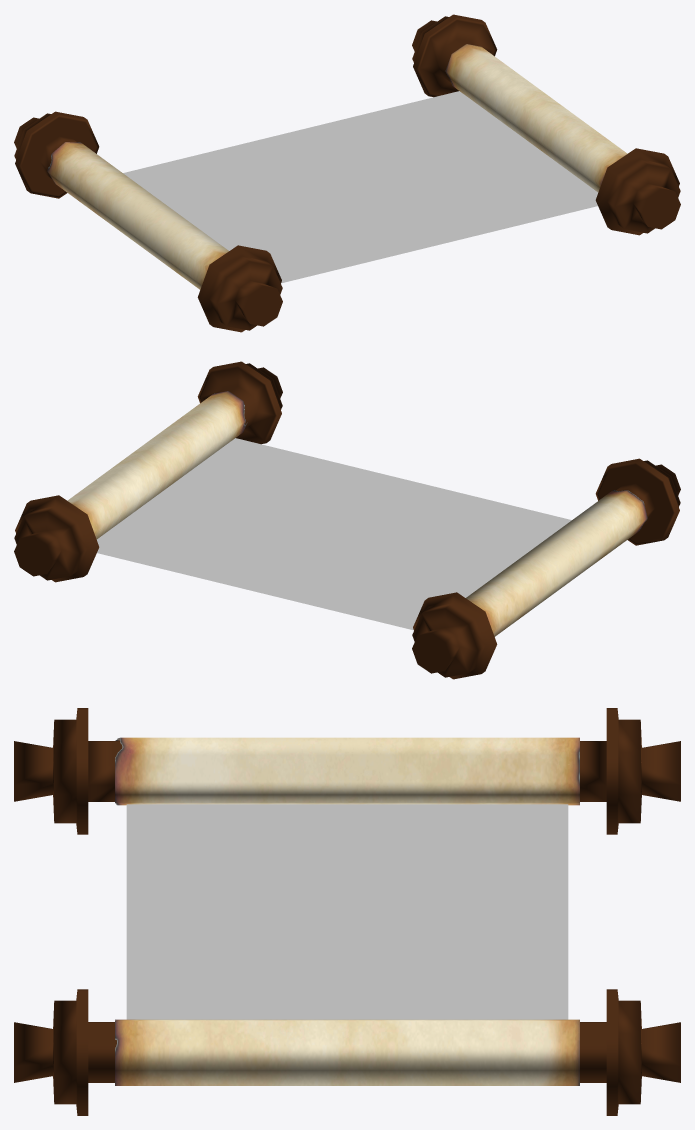
The model's file is parchment1.fbx.
3 renders of one model, top to bottom at view 1: azimuth 30°, elevation 25°; view 2: azimuth 150°, elevation 25°; view 3: azimuth 270°, elevation 25°, orthographic. The views are drawn at different scales.
Visible parts, largest first — view 1: Paper, Top, Bottom, Bottom_Paper, Top_paper; view 2: Paper, Top, Bottom, Bottom_Paper, Top_paper; view 3: Paper, Top_paper, Bottom_Paper, Top, Bottom.
Boxes of the visible parts, x1,y1,x2,y2 form: Paper: [123, 91, 597, 283]; Top: [14, 111, 282, 332]; Bottom: [412, 14, 680, 235]; Bottom_Paper: [445, 44, 627, 192]; Top_paper: [47, 142, 228, 289]; Paper: [97, 438, 571, 630]; Top: [412, 458, 680, 679]; Bottom: [14, 361, 282, 582]; Bottom_Paper: [67, 391, 247, 539]; Top_paper: [466, 490, 647, 636]; Paper: [126, 804, 568, 1019]; Top_paper: [115, 737, 579, 805]; Bottom_Paper: [115, 1019, 579, 1085]; Top: [14, 708, 680, 834]; Bottom: [14, 989, 680, 1115].
Bounding box in the file's own units: 24.71 × 4.16 × 20.6.
